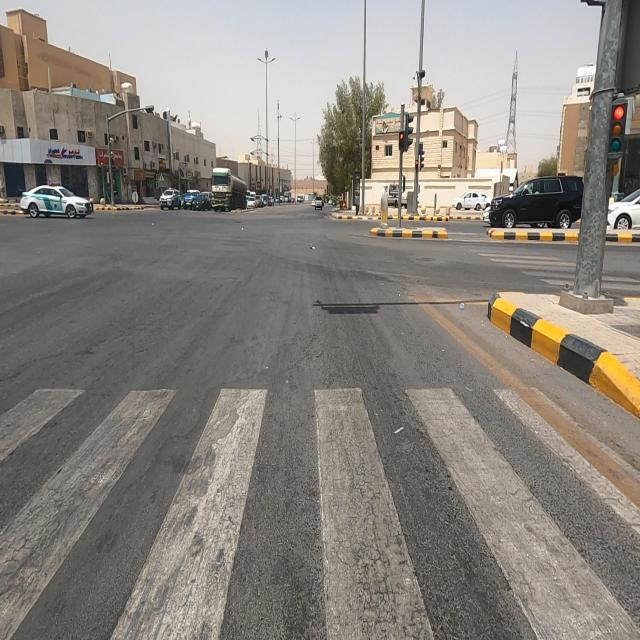debris: (448, 281, 474, 333), (302, 225, 326, 268)
